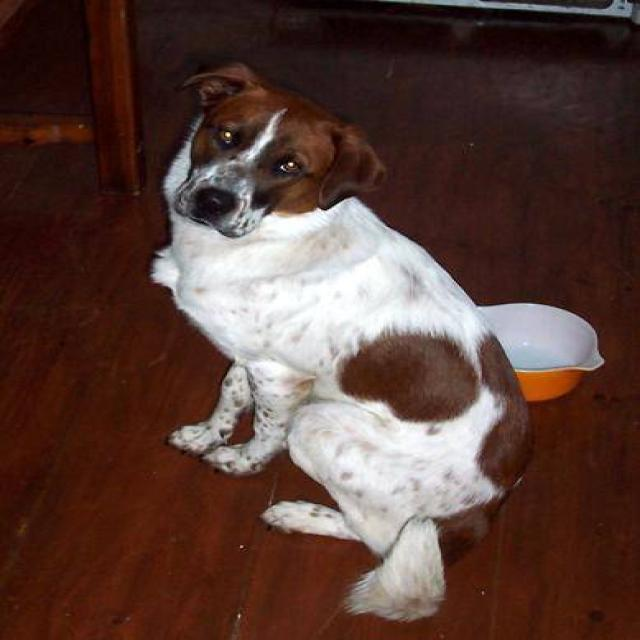dog: (148, 59, 535, 623)
